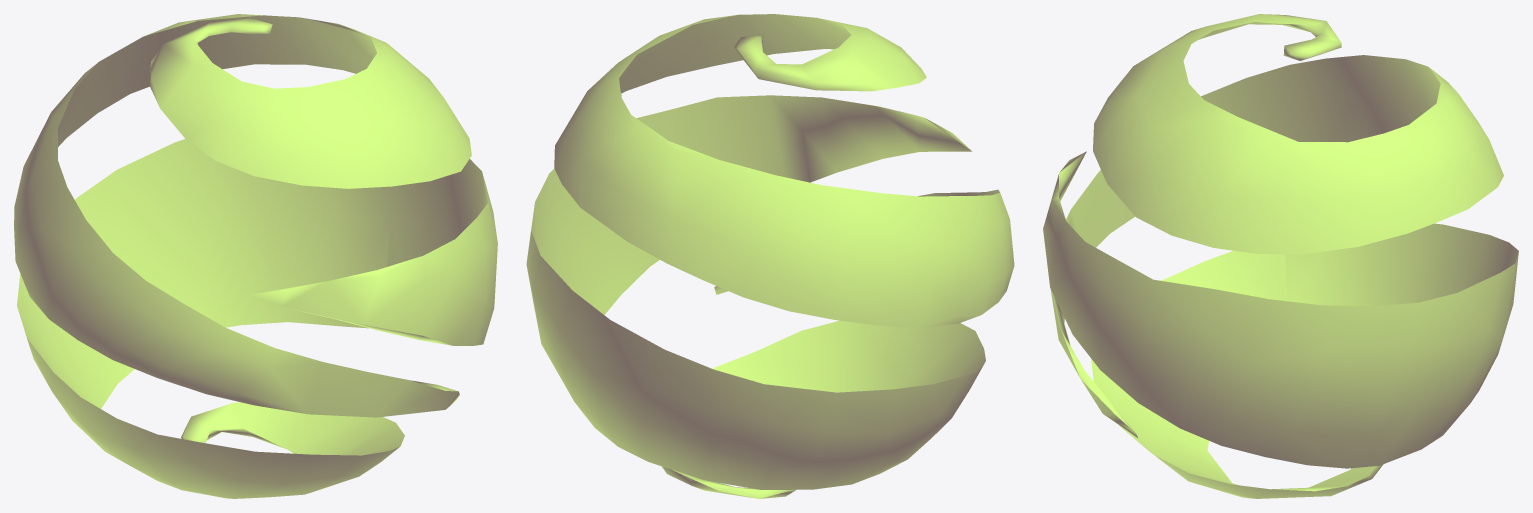
File: Planet_Acc_Stratus_Low.fbx
3 views of the same model, side by side, from view 1: azimuth 30°, elevation 25°; view 2: azimuth 150°, elevation 25°; view 3: azimuth 270°, elevation 25° (orthographic). The views are drawn at different scales.
Parts seen in each view (by area): view 1: StratusLow; view 2: StratusLow; view 3: StratusLow.
Boxes of the visible parts, box(x1,y1,x2,y2) form: StratusLow: box(14, 14, 497, 498); StratusLow: box(526, 14, 1014, 498); StratusLow: box(1043, 14, 1518, 498).
Bounding box in the file's own units: 2.03 × 2.02 × 2.04.
